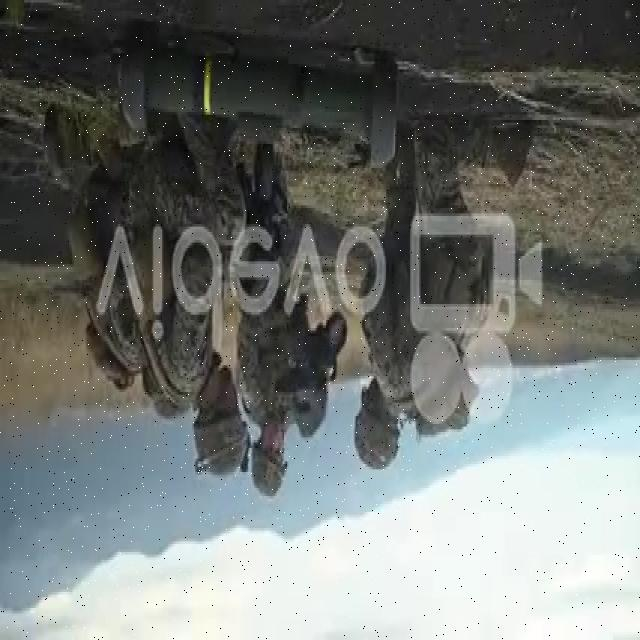bazooka: (118, 25, 406, 184)
